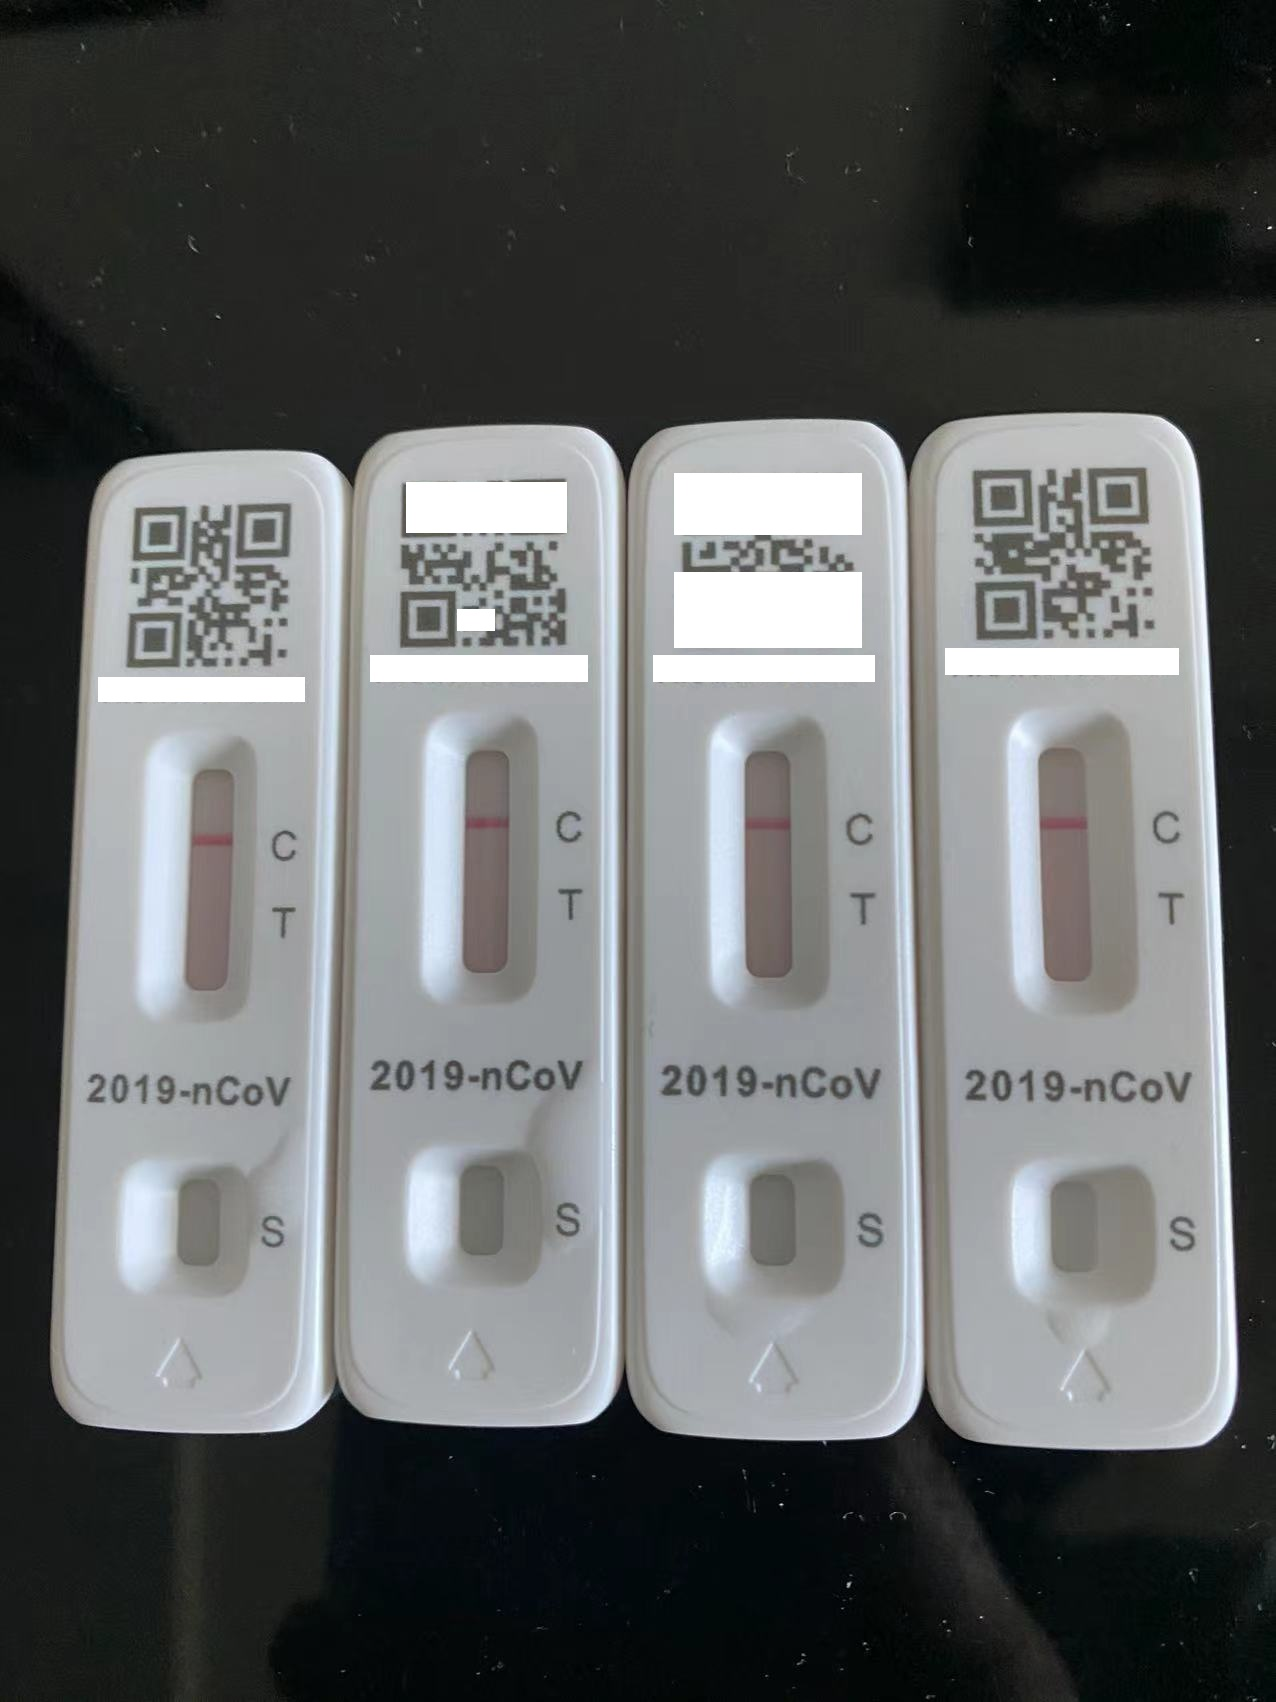negative: (1008, 708, 1137, 1027), (710, 712, 826, 1020), (142, 733, 256, 1035), (424, 720, 533, 1006)
